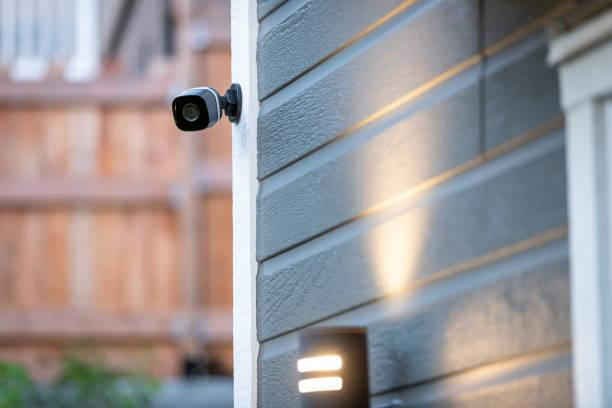camera: (140, 76, 250, 145)
